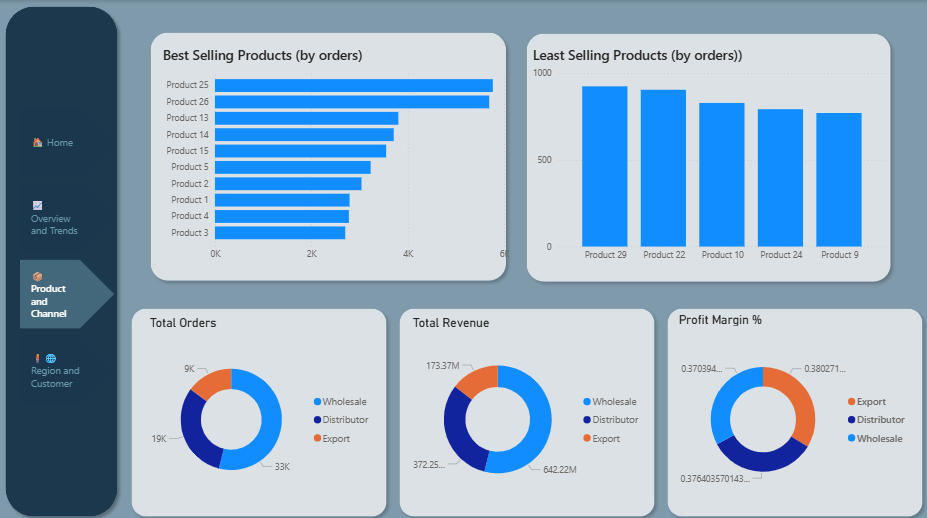

Layout of this report page (visuals, bound fields, positions):
{"tool":"powerbi","page":{"name":"📦   Product and Channel","canvas":[1280,720],"ordinal":2},"visuals":[{"type":"shape","box":[199.9,35.6,507.3,359.5],"z":0},{"type":"shape","box":[717.3,37.2,519.1,359.5],"z":1000},{"type":"shape","box":[173.4,415.7,368.9,304.2],"z":2000},{"type":"shape","box":[542.3,415.7,368.9,304.2],"z":3000},{"type":"shape","box":[911.1,415.7,368.9,304.2],"z":4000},{"type":"barChart","title":"Best Selling Products (by orders)","fields":{"Category":["Sales Dashboard.product_name"],"Y":["Custom.Total Orders"]},"box":[220.1,62.4,487.1,305.7],"z":5000},{"type":"donutChart","title":"Total Orders ","fields":{"Y":["Custom.Total Orders"],"Category":["Sales Dashboard.channel"]},"box":[202.3,433.5,320.7,268.4],"z":6000},{"type":"donutChart","title":"Total Revenue ","fields":{"Category":["Sales Dashboard.channel"],"Y":["Custom.Total Revenue"]},"box":[564.3,433.5,330.3,268.4],"z":7000},{"type":"donutChart","title":"Profit Margin % ","fields":{"Category":["Sales Dashboard.channel"],"Y":["Custom.Profit Margin %"]},"box":[930.4,429.4,330.3,276.6],"z":8000},{"type":"clusteredColumnChart","title":"Least Selling Products (by orders))","fields":{"Y":["Custom.Total Orders"],"Category":["Sales Dashboard.product_name"]},"box":[729,62.4,497.2,307.4],"z":9000},{"type":"shape","title":"menu bg","box":[0,0,172,720],"z":10000},{"type":"pageNavigator","title":"menu buttons","box":[29.3,146.7,130.7,412],"z":11000}]}

Visuals, with their boxes on the page's 1280x720 design canvas (x1, y1, x2, y2). These are canvas units, not pixel positions in the 927x518 screenshot, which may show the page scaled, cropped or inside an application window:
shape: 200, 36, 707, 395
shape: 717, 37, 1236, 397
shape: 173, 416, 542, 720
shape: 542, 416, 911, 720
shape: 911, 416, 1280, 720
"Best Selling Products (by orders)" barChart: 220, 62, 707, 368
"Total Orders " donutChart: 202, 434, 523, 702
"Total Revenue " donutChart: 564, 434, 895, 702
"Profit Margin % " donutChart: 930, 429, 1261, 706
"Least Selling Products (by orders))" clusteredColumnChart: 729, 62, 1226, 370
"menu bg" shape: 0, 0, 172, 720
"menu buttons" pageNavigator: 29, 147, 160, 559
